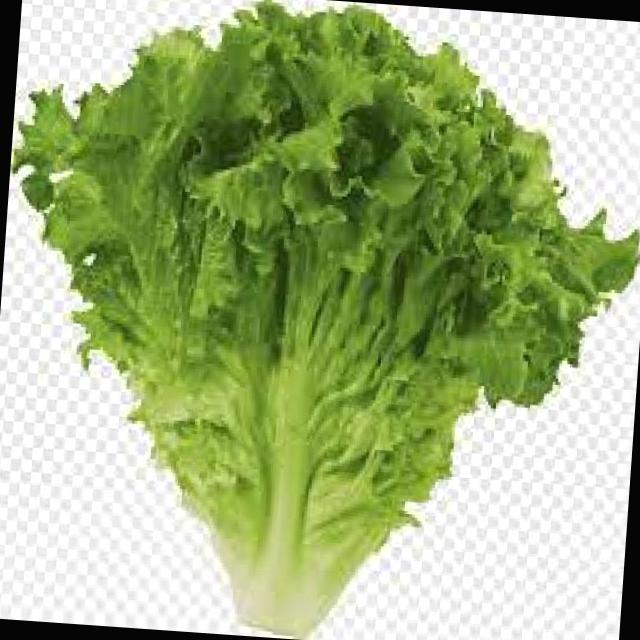Lettuce-Ready-to-Harvest: (15, 2, 637, 632)
